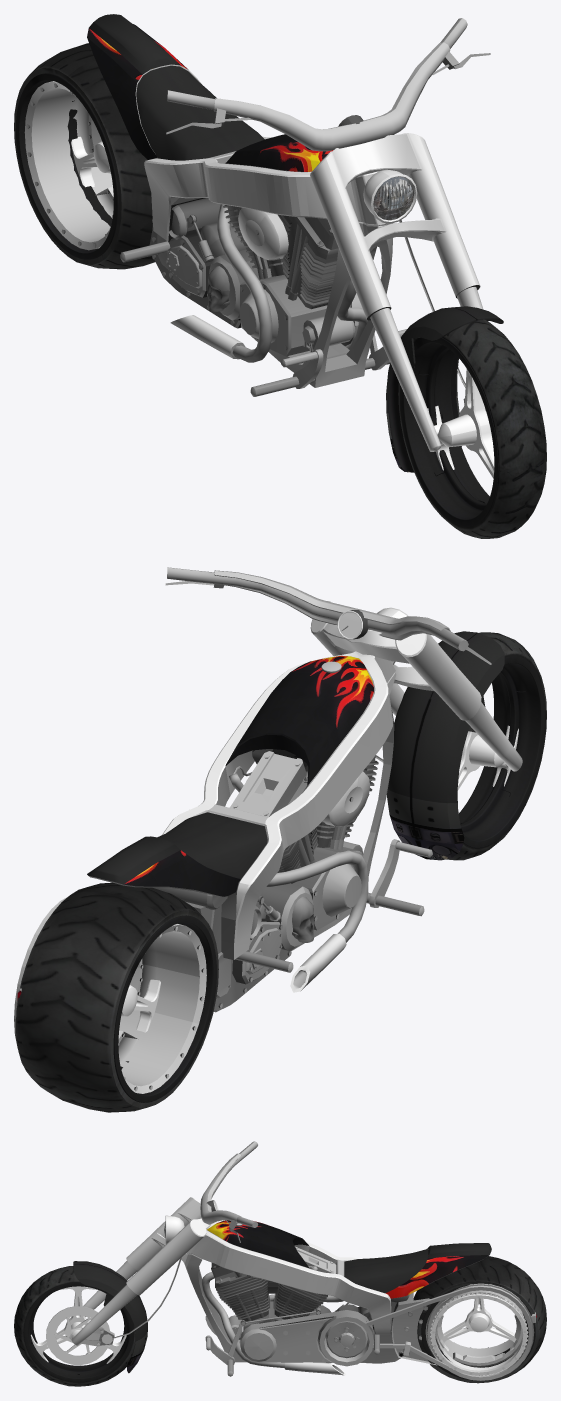
The model's file is SuperMotors_9_.fbx.
3 renders of one model, top to bottom at view 1: azimuth 30°, elevation 25°; view 2: azimuth 150°, elevation 25°; view 3: azimuth 270°, elevation 25°, orthographic. The views are drawn at different scales.
Visible parts, largest first — view 1: SuperMotors_9_012, SuperMotors_9_002, SuperMotors_9_001, SuperMotors_9_008, SuperMotors_9_011, SuperMotors_9_010, SuperMotors_9_009, SuperMotors_9_013, SuperMotors_9_006; view 2: SuperMotors_9_012, SuperMotors_9_001, SuperMotors_9_011, SuperMotors_9_002, SuperMotors_9_008, SuperMotors_9_010, SuperMotors_9_009, SuperMotors_9_006; view 3: SuperMotors_9_012, SuperMotors_9_001, SuperMotors_9_002, SuperMotors_9_011, SuperMotors_9_008, SuperMotors_9_010, SuperMotors_9_009, SuperMotors_9_007.
Part boxes in pixels (left/top/right/bottom): SuperMotors_9_012: left=87, top=24, right=406, bottom=396; SuperMotors_9_002: left=398, top=319, right=546, bottom=538; SuperMotors_9_001: left=14, top=43, right=155, bottom=269; SuperMotors_9_008: left=310, top=115, right=480, bottom=320; SuperMotors_9_011: left=370, top=220, right=503, bottom=472; SuperMotors_9_010: left=166, top=18, right=490, bottom=151; SuperMotors_9_009: left=89, top=14, right=179, bottom=74; SuperMotors_9_013: left=373, top=176, right=414, bottom=220; SuperMotors_9_006: left=170, top=315, right=245, bottom=359; SuperMotors_9_012: left=14, top=651, right=432, bottom=1048; SuperMotors_9_001: left=16, top=882, right=218, bottom=1112; SuperMotors_9_011: left=375, top=631, right=522, bottom=860; SuperMotors_9_002: left=446, top=632, right=546, bottom=860; SuperMotors_9_008: left=310, top=601, right=481, bottom=720; SuperMotors_9_010: left=165, top=567, right=491, bottom=664; SuperMotors_9_009: left=89, top=836, right=179, bottom=884; SuperMotors_9_006: left=290, top=933, right=346, bottom=992; SuperMotors_9_012: left=181, top=1220, right=535, bottom=1380; SuperMotors_9_001: left=413, top=1256, right=546, bottom=1383; SuperMotors_9_002: left=14, top=1266, right=135, bottom=1386; SuperMotors_9_011: left=71, top=1257, right=181, bottom=1373; SuperMotors_9_008: left=126, top=1197, right=218, bottom=1295; SuperMotors_9_010: left=200, top=1141, right=258, bottom=1242; SuperMotors_9_009: left=427, top=1243, right=491, bottom=1258; SuperMotors_9_007: left=285, top=1362, right=345, bottom=1375.
Size of what is drawn, in the model's own units: 66.7 by 71.02 by 169.
